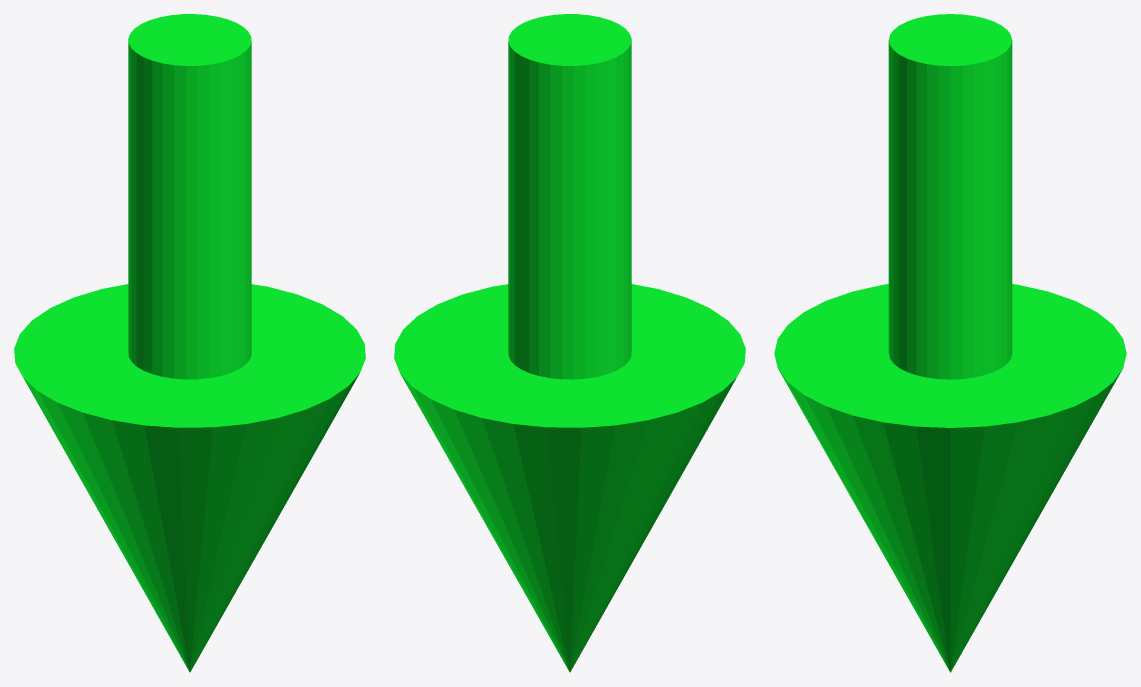
File: flecha.glb
3 renders of one model, left to right at view 1: azimuth 30°, elevation 25°; view 2: azimuth 150°, elevation 25°; view 3: azimuth 270°, elevation 25°, orthographic.
Parts seen in each view (by area): view 1: Cylinder; view 2: Cylinder; view 3: Cylinder.
Part boxes in pixels (bbox=[...]): Cylinder: bbox=[14, 14, 365, 672]; Cylinder: bbox=[394, 14, 745, 672]; Cylinder: bbox=[774, 14, 1126, 672].
Bounding box in the file's own units: 2 × 3.96 × 2.
